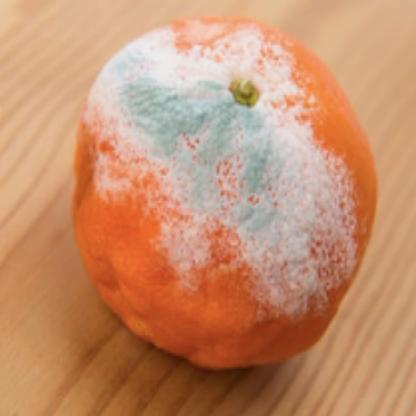rotten: (77, 13, 384, 377)
